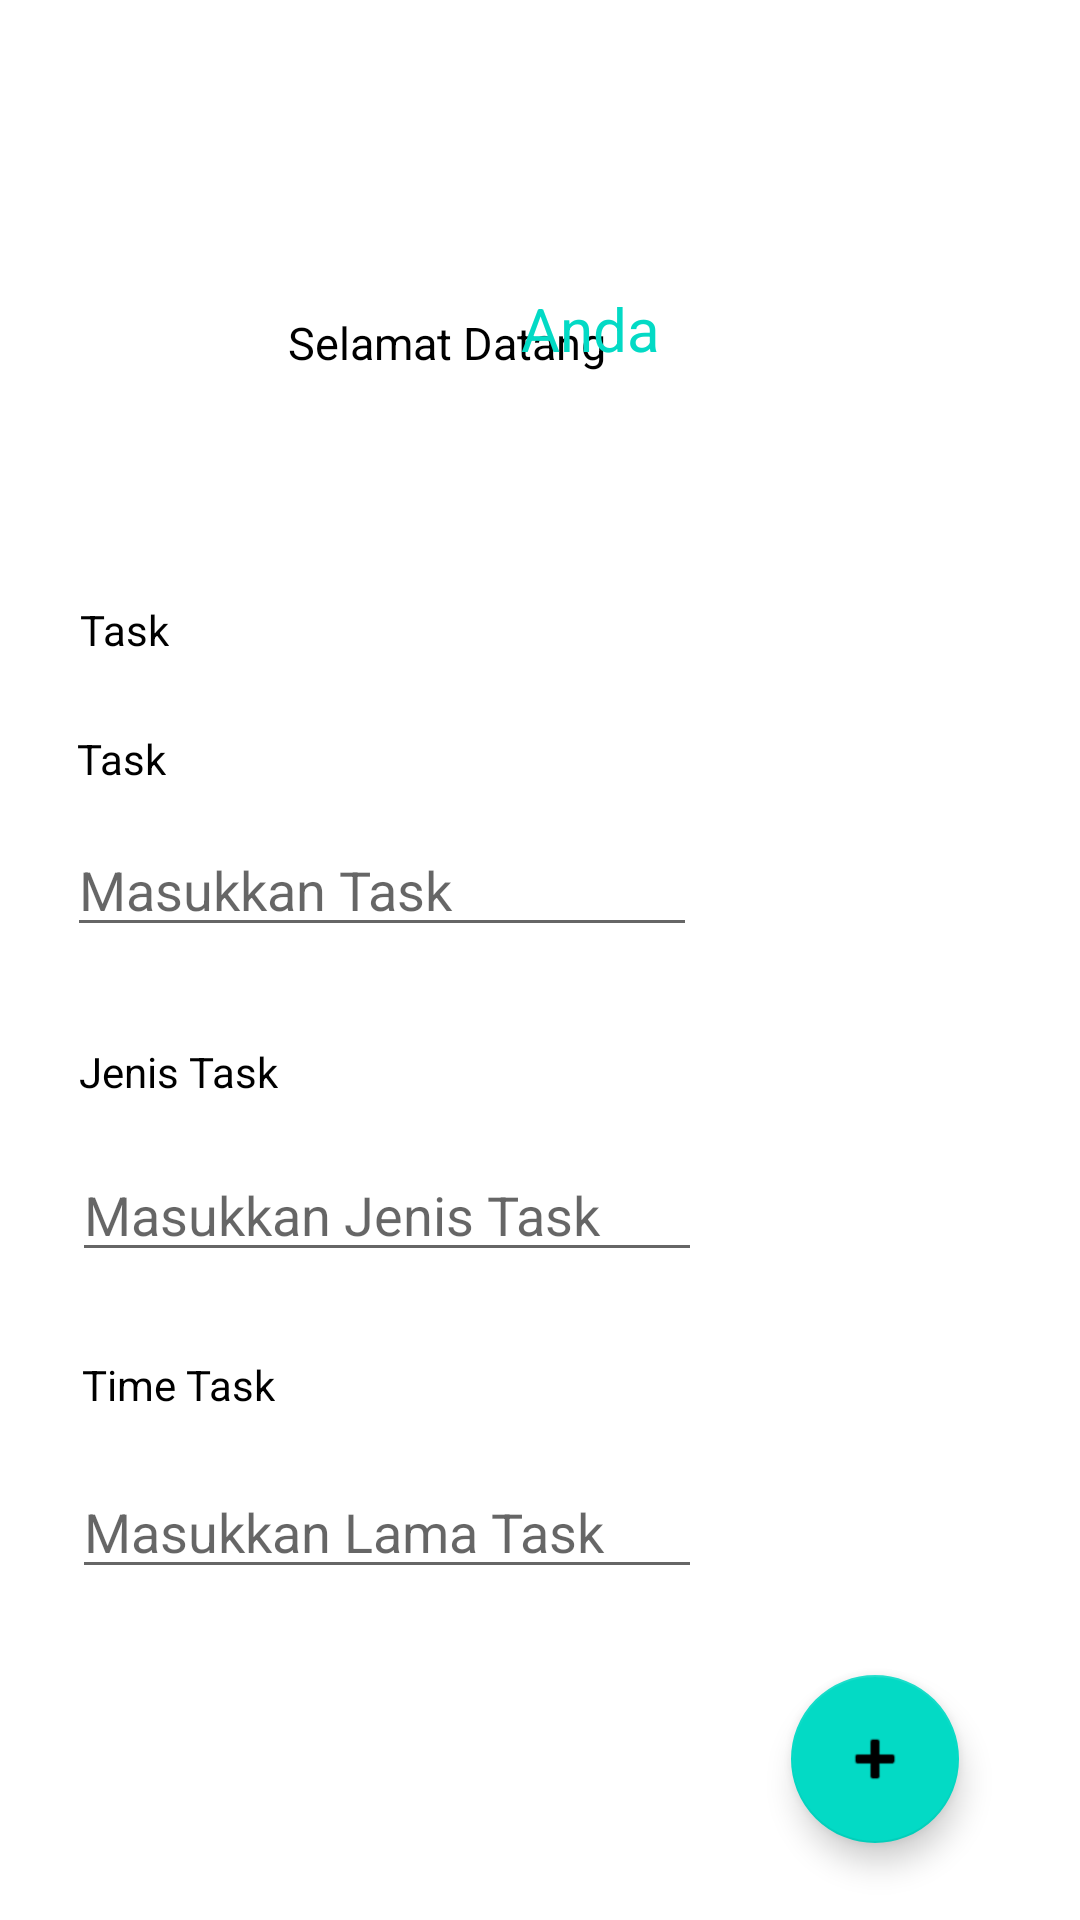

Named icons in this screenshot (1080*1920) and their centers, [x,y]:
add: [875,1759]
